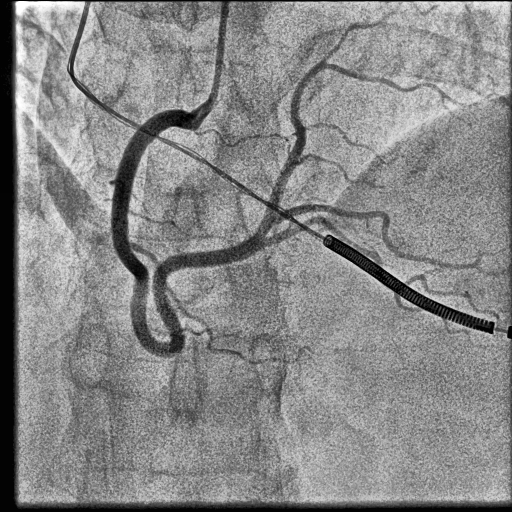pborca: (255, 61, 328, 237)
pda: (267, 217, 380, 262)
rca: (111, 109, 266, 358)
